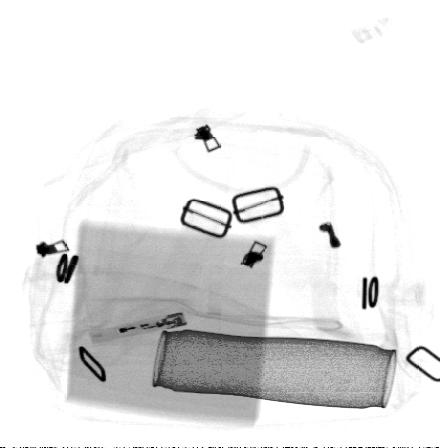Lighter: (89, 311, 188, 345)
